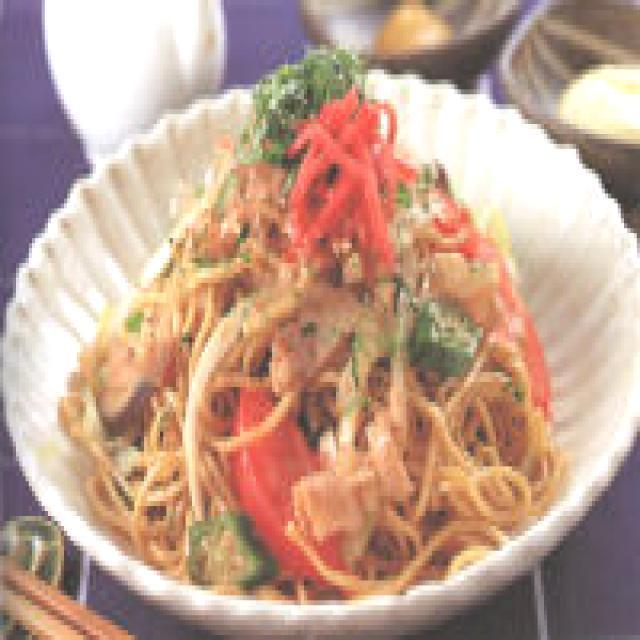fried-noodle: (0, 54, 637, 636)
